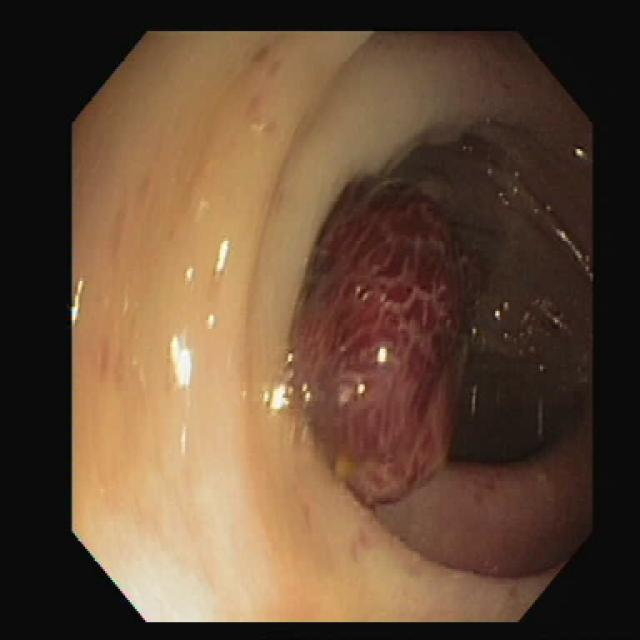tumor: (293, 178, 485, 529)
